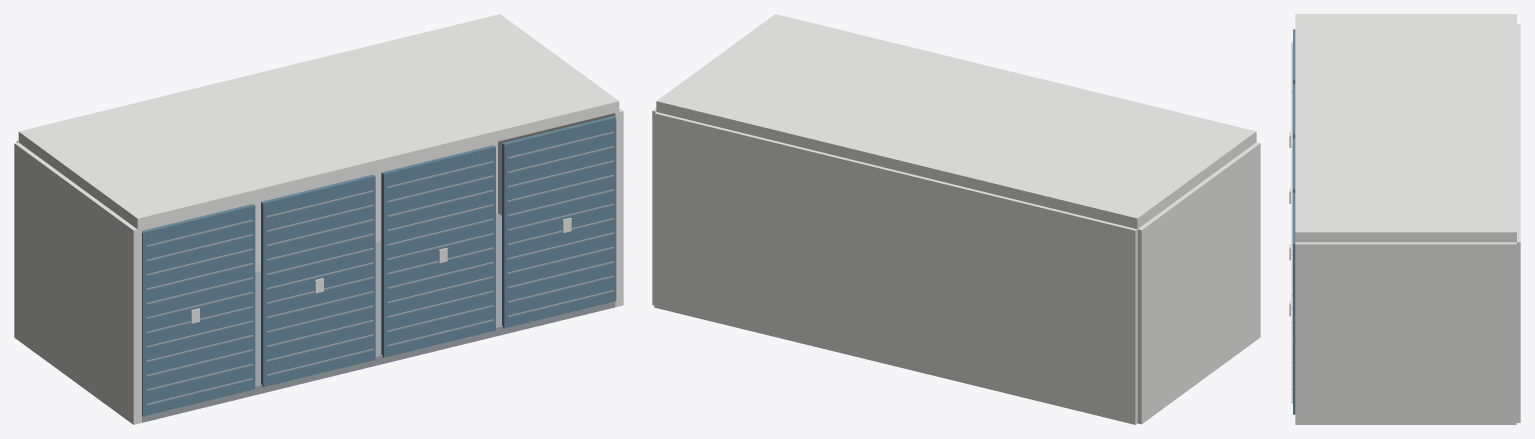
File: long-haul-trucking-and-truck-stop-shower-block-48e0c9a2__13979.glb
The picture shows the model from 3 angles, left to right: view 1: azimuth 30°, elevation 25°; view 2: azimuth 150°, elevation 25°; view 3: azimuth 270°, elevation 25°; orthographic projection. The views are drawn at different scales.
Visible parts, largest first — view 1: shower-block; view 2: shower-block; view 3: shower-block.
Boxes of the visible parts, x1=… form: shower-block: x1=14, y1=14, x2=623, y2=424; shower-block: x1=652, y1=14, x2=1260, y2=424; shower-block: x1=1289, y1=14, x2=1520, y2=424.
Bounding box in the file's own units: 7.12 × 2.85 × 3.13.
